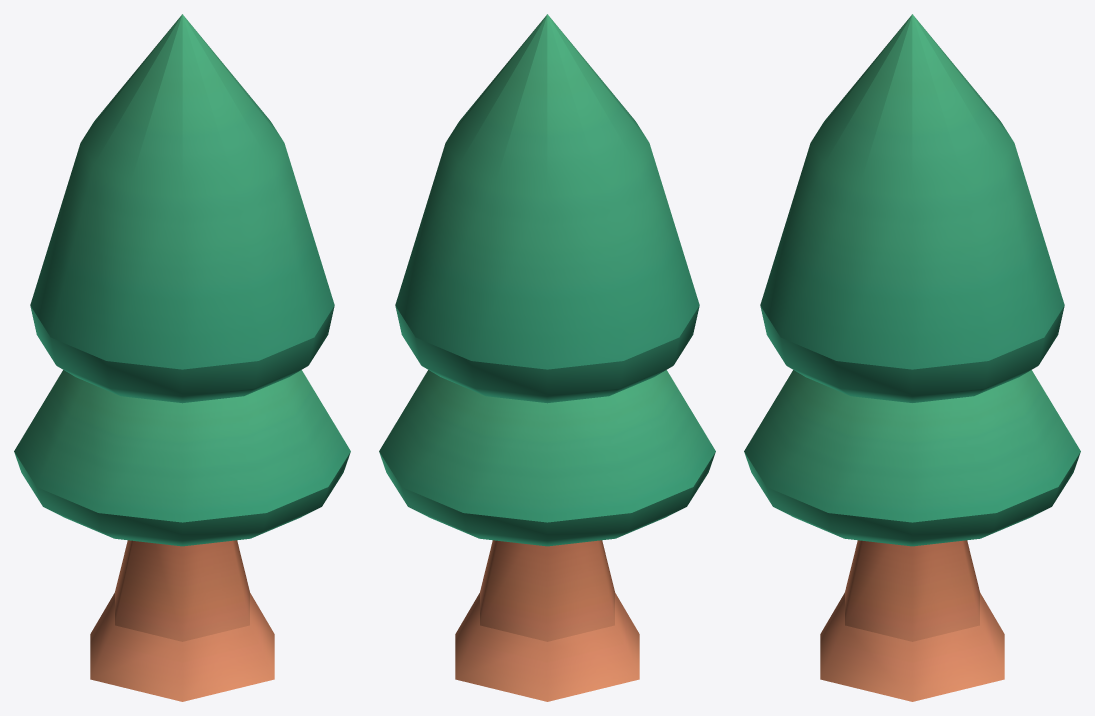
The model's file is kenney-platformer-tree-pine-small.glb.
3 renders of one model, left to right at view 1: azimuth 30°, elevation 25°; view 2: azimuth 150°, elevation 25°; view 3: azimuth 270°, elevation 25°, orthographic.
Visible parts, largest first — view 1: tree-pine-small; view 2: tree-pine-small; view 3: tree-pine-small.
Boxes of the visible parts, x1,y1,x2,y2 form: tree-pine-small: (14, 14, 350, 701); tree-pine-small: (379, 14, 715, 701); tree-pine-small: (744, 14, 1080, 701).
Bounding box in the file's own units: 0.6639 × 1.4 × 0.6639.
1 material, 1 textured.
